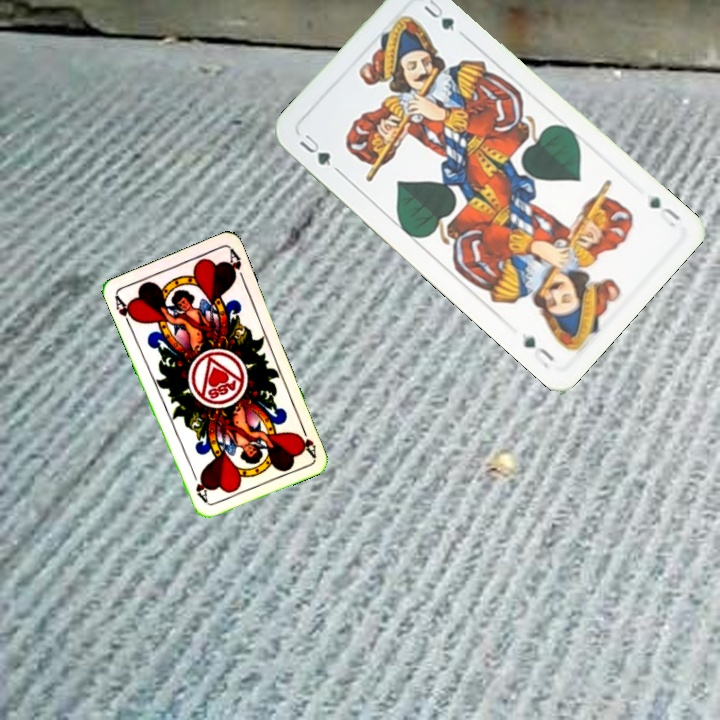GU: (295, 130, 342, 175), (645, 192, 683, 230)
HA: (111, 292, 138, 331), (295, 420, 319, 459)
